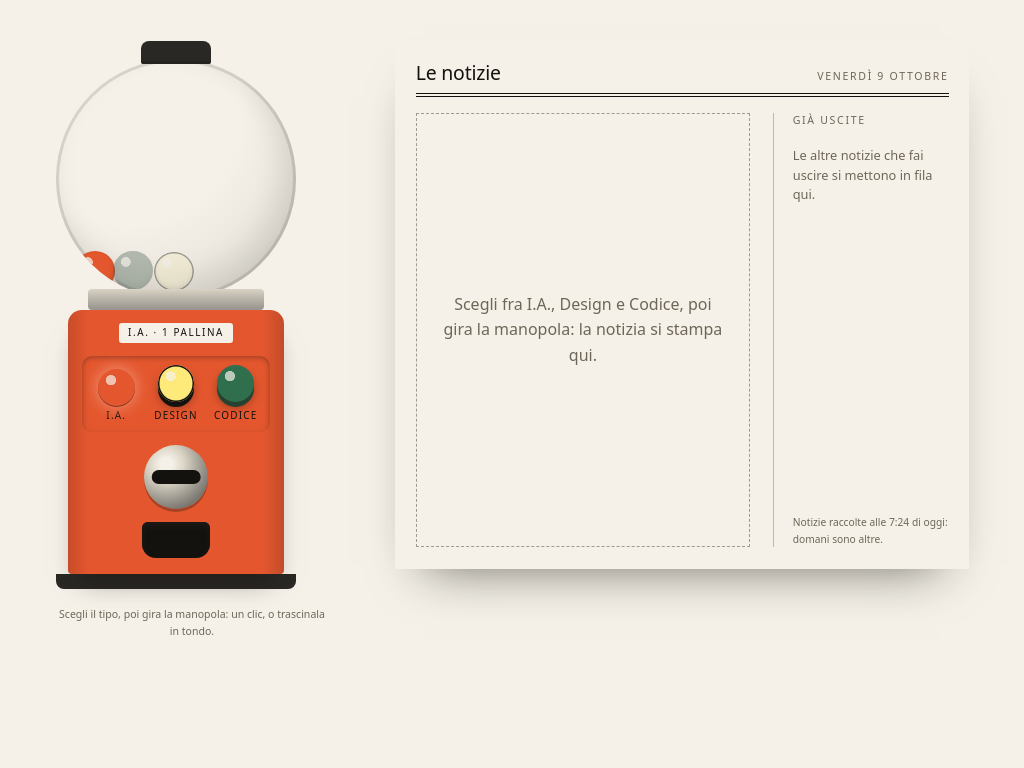
Scenario: le notizie: il giro › senza riassunto il posto resta: il dominio in grande e una riga
(page scrolled)
Step 1. Click the button named "Gira la manopola: esce una notizia" → (176, 477), box [144, 445, 208, 509]
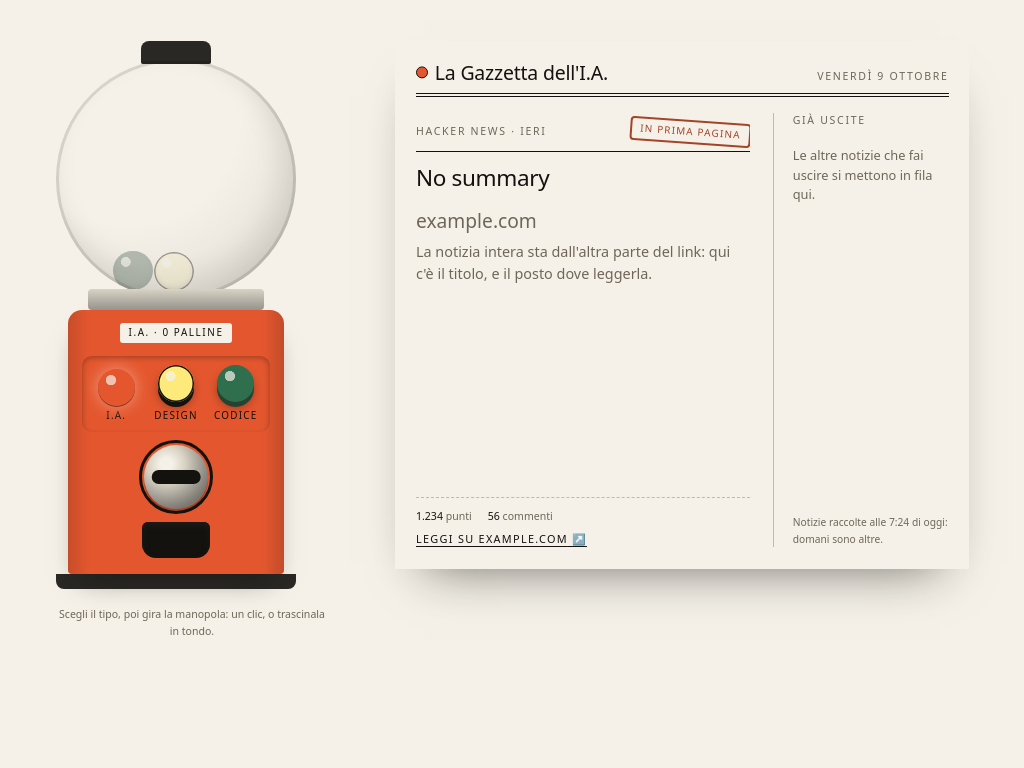
Result: the element that starts with "example.com" is shown at [416, 207, 536, 234]
Result: the element that starts with "example.com" shows "La notizia intera sta dall'altra parte del link: qui c'è il titolo, e il posto dove leggerla." at [416, 242, 730, 283]
